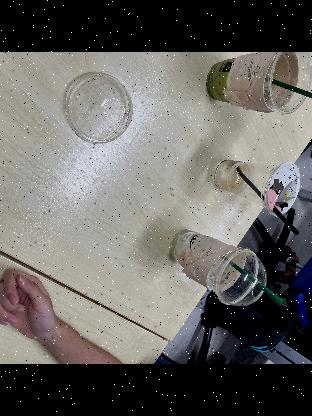Others: (156, 228, 260, 307), (204, 52, 312, 113), (62, 66, 136, 150), (213, 155, 301, 214), (235, 166, 300, 237), (212, 248, 270, 310), (220, 255, 287, 308), (266, 75, 312, 100)
